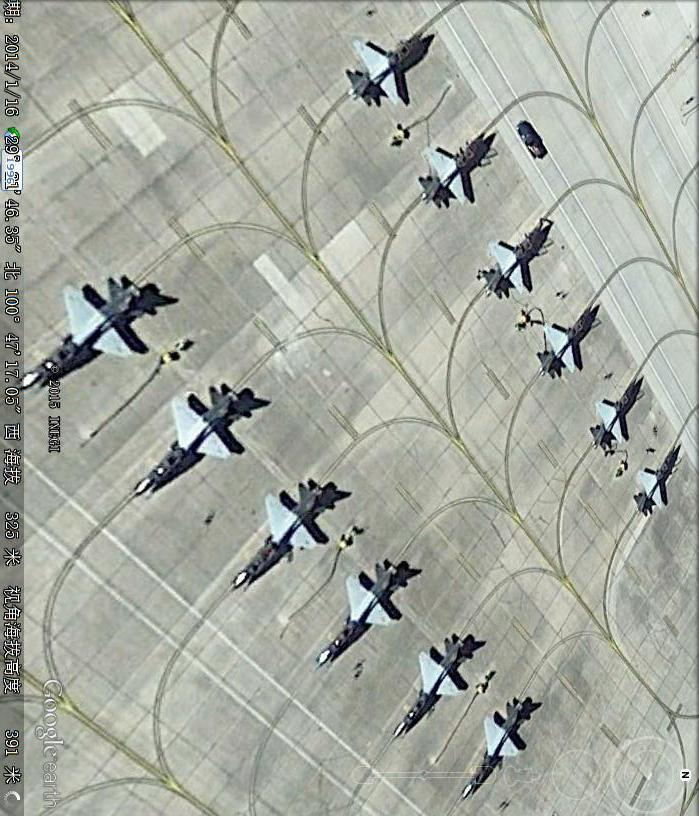plane: (22, 269, 153, 392), (130, 376, 250, 496), (225, 476, 343, 589), (318, 549, 419, 669), (391, 630, 478, 738), (457, 696, 540, 804), (341, 24, 430, 113), (414, 123, 495, 210), (474, 216, 550, 303), (533, 298, 601, 382), (625, 442, 682, 520), (588, 380, 642, 456)
